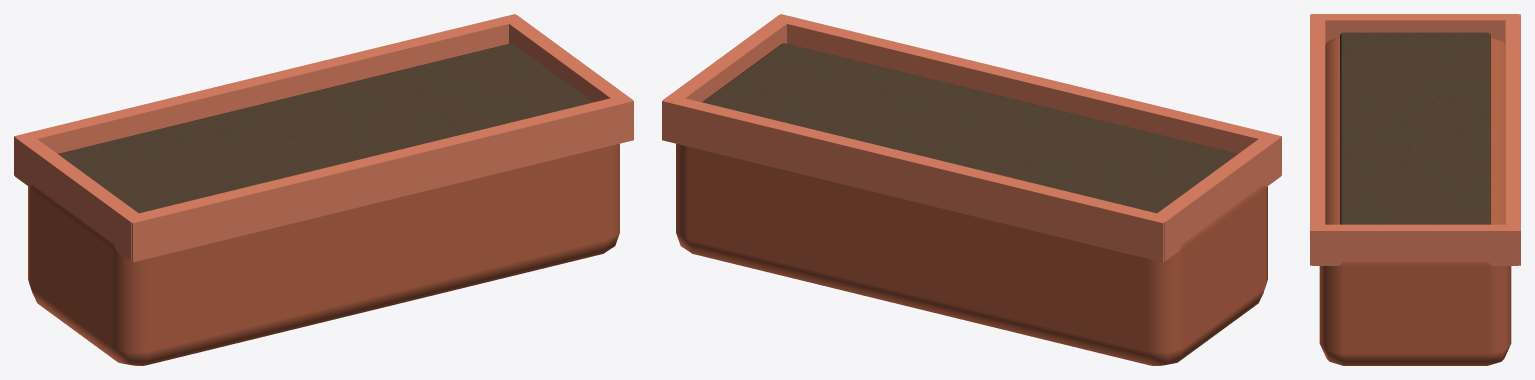
The model's file is planter-trough-eef984311354.glb.
The picture shows the model from 3 angles, left to right: view 1: azimuth 30°, elevation 25°; view 2: azimuth 150°, elevation 25°; view 3: azimuth 270°, elevation 25°; orthographic projection. The views are drawn at different scales.
Visible parts, largest first — view 1: surface_terracotta, surface_coral, surface_soil; view 2: surface_terracotta, surface_coral, surface_soil; view 3: surface_soil, surface_terracotta, surface_coral.
Boxes of the visible parts, <box> form: surface_terracotta: <box>28,143,619,365</box>; surface_coral: <box>14,14,633,262</box>; surface_soil: <box>58,43,593,213</box>; surface_terracotta: <box>676,143,1267,365</box>; surface_coral: <box>662,14,1281,262</box>; surface_soil: <box>702,43,1237,213</box>; surface_soil: <box>1340,32,1490,224</box>; surface_terracotta: <box>1319,37,1511,365</box>; surface_coral: <box>1310,14,1520,265</box>.
Bounding box in the file's own units: 1.08 × 0.33 × 0.44.
3 materials, 1 textured.
